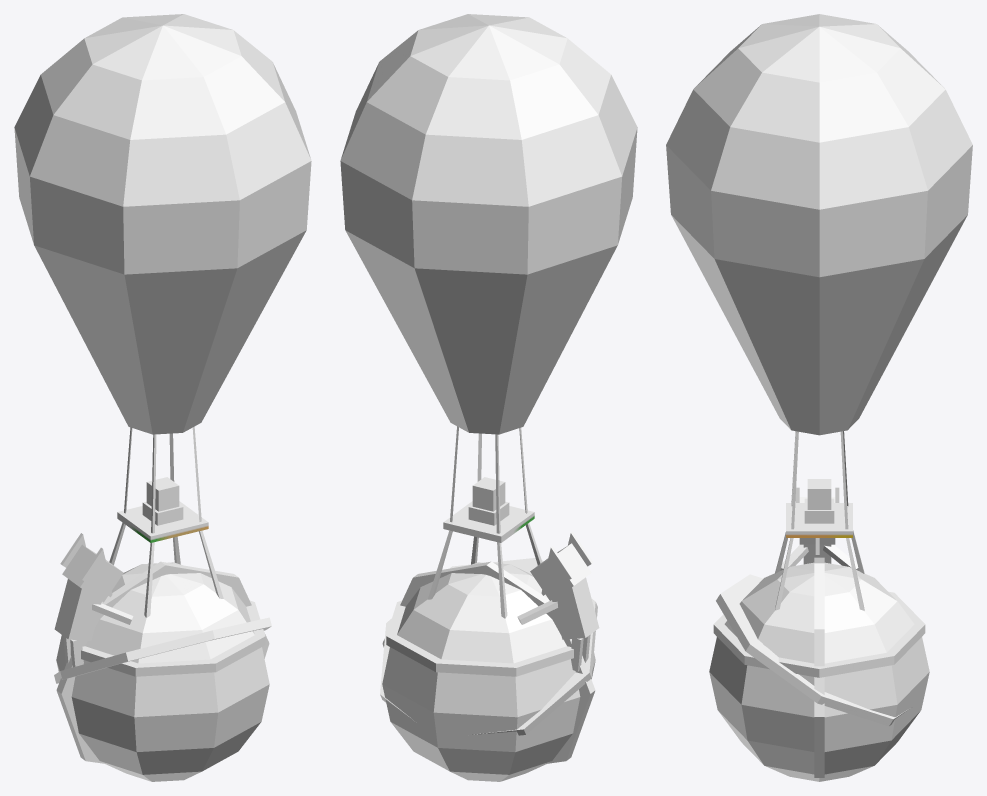
File: GoblinSuicider02.fbx
The picture shows the model from 3 angles, left to right: view 1: azimuth 30°, elevation 25°; view 2: azimuth 150°, elevation 25°; view 3: azimuth 270°, elevation 25°; orthographic projection.
Visible parts, largest first — view 1: GoblinSuicider10; view 2: GoblinSuicider10; view 3: GoblinSuicider10.
Boxes of the visible parts, x1,y1,x2,y2 form: GoblinSuicider10: [14, 14, 311, 781]; GoblinSuicider10: [340, 14, 637, 781]; GoblinSuicider10: [666, 14, 972, 781].
Bounding box in the file's own units: 280 × 750 × 280.
